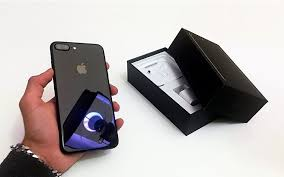iphone: (45, 36, 120, 155)
